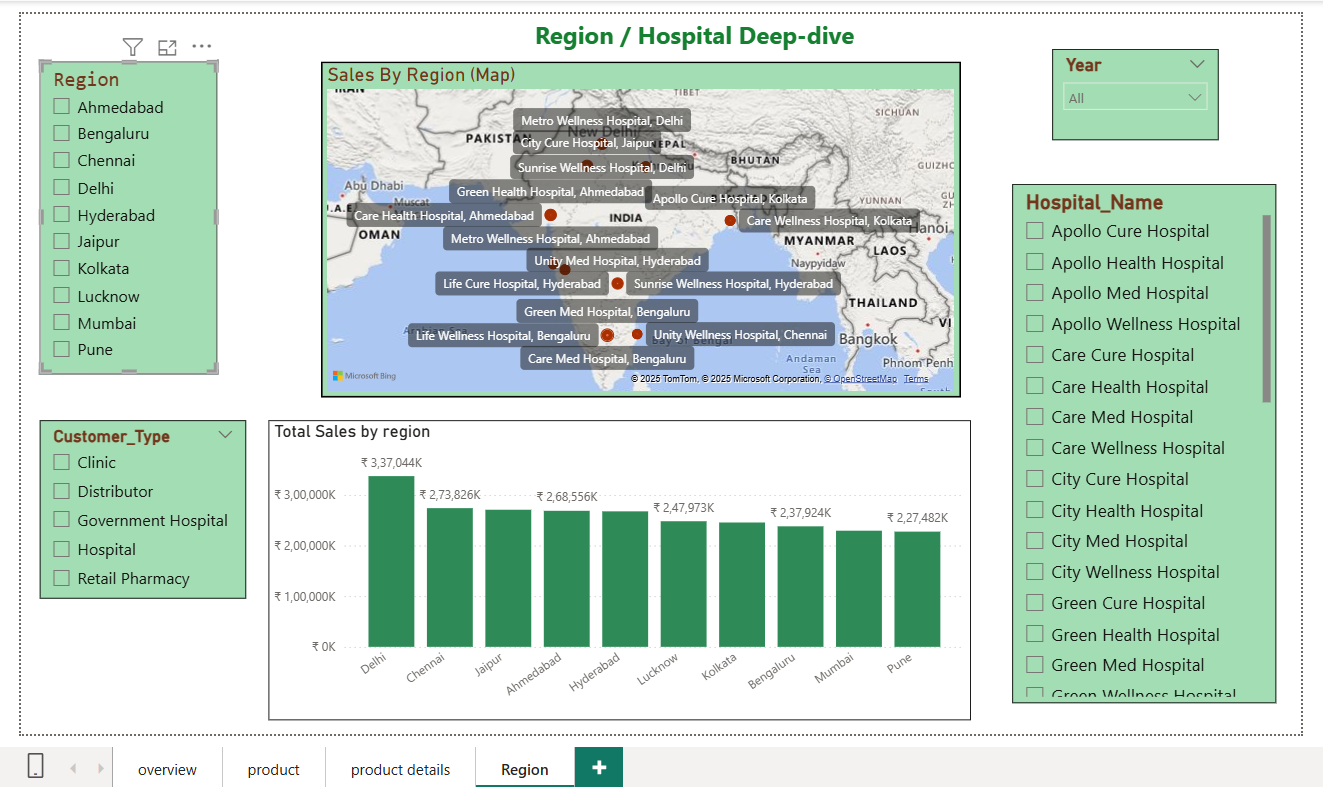

The page's visual inventory and layout, read from the dashboard file:
{"tool":"powerbi","page":{"name":"Region","canvas":[1280,720],"ordinal":3},"visuals":[{"type":"slicer","fields":{"Values":["sales.region"]},"box":[18.8,47.5,177.5,312.5],"z":0},{"type":"slicer","fields":{"Values":["sales.customer_type"]},"box":[18.8,406.2,206.2,178.8],"z":1000},{"type":"textbox","box":[508.8,0,345,47.5],"z":2000},{"type":"slicer","fields":{"Values":["sales.year"]},"box":[1031.2,35,166.2,91.2],"z":3000},{"type":"map","title":"Sales By Region (Map)","fields":{"Category":["sales.Full_Location"],"Size":["sales.Total Sales"]},"box":[300,47.5,640,336.2],"z":4000},{"type":"clusteredColumnChart","fields":{"Category":["sales.region"],"Y":["sales.Total Sales"]},"box":[247.5,406.2,702.5,300],"z":5000},{"type":"slicer","fields":{"Values":["sales.hospital_name"]},"box":[990.6,170.4,264,519],"z":6000}]}

Visuals, with their boxes on the page's 1280x720 design canvas (x1, y1, x2, y2). These are canvas units, not pixel positions in the 1323x787 screenshot, which may show the page scaled, cropped or inside an application window:
slicer - sales.region: x1=19, y1=48, x2=196, y2=360
slicer - sales.customer_type: x1=19, y1=406, x2=225, y2=585
textbox: x1=509, y1=0, x2=854, y2=48
slicer - sales.year: x1=1031, y1=35, x2=1197, y2=126
"Sales By Region (Map)" map: x1=300, y1=48, x2=940, y2=384
clusteredColumnChart - sales.region x sales.Total Sales: x1=248, y1=406, x2=950, y2=706
slicer - sales.hospital_name: x1=991, y1=170, x2=1255, y2=689
